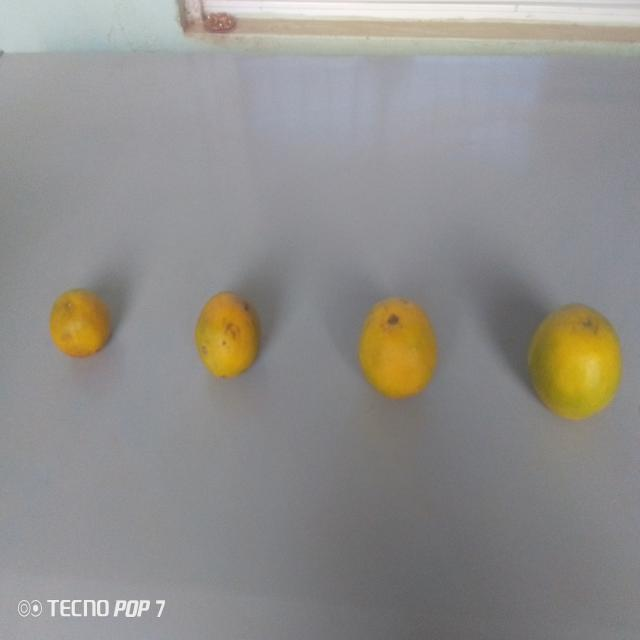Ripe orange: (524, 295, 626, 433), (351, 292, 442, 402), (189, 285, 263, 384), (45, 278, 118, 372)
